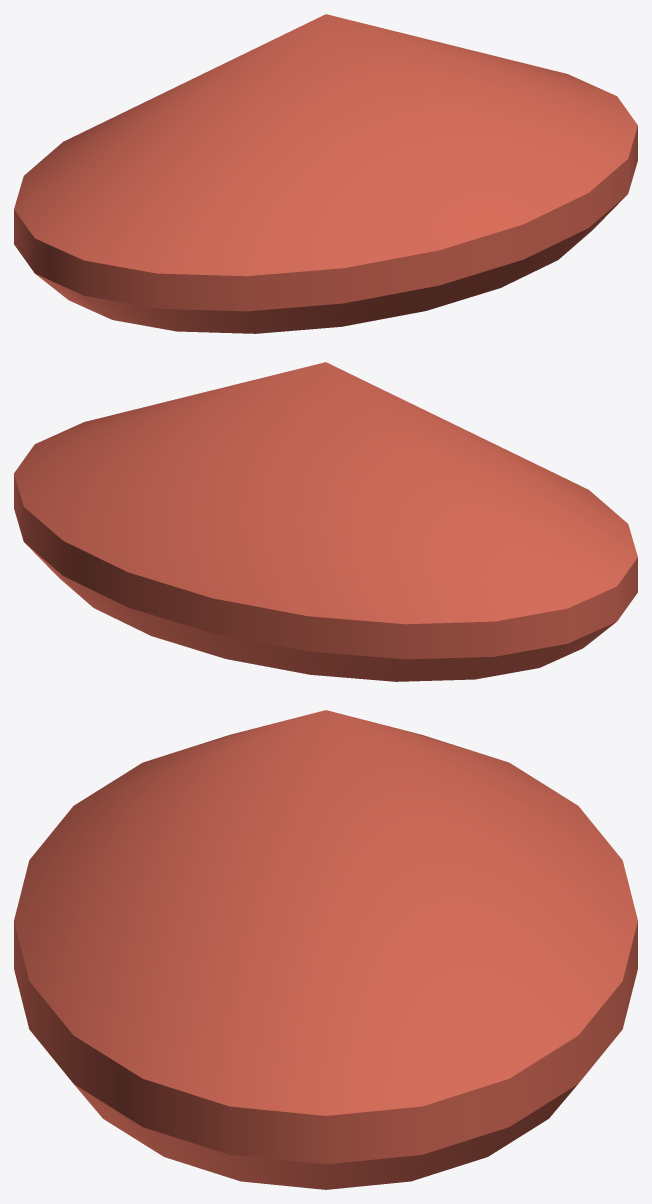
Rendered from mushroom.fbx.
The picture shows the model from 3 angles, top to bottom: view 1: azimuth 30°, elevation 25°; view 2: azimuth 150°, elevation 25°; view 3: azimuth 270°, elevation 25°; orthographic projection. The views are drawn at different scales.
Parts seen in each view (by area): view 1: pCone1; view 2: pCone1; view 3: pCone1.
Boxes of the visible parts, left/top/right/bottom form: pCone1: left=14, top=14, right=637, bottom=333; pCone1: left=14, top=362, right=637, bottom=681; pCone1: left=14, top=710, right=637, bottom=1189.
Bounding box in the file's own units: 1.45 × 0.5308 × 0.9767.
